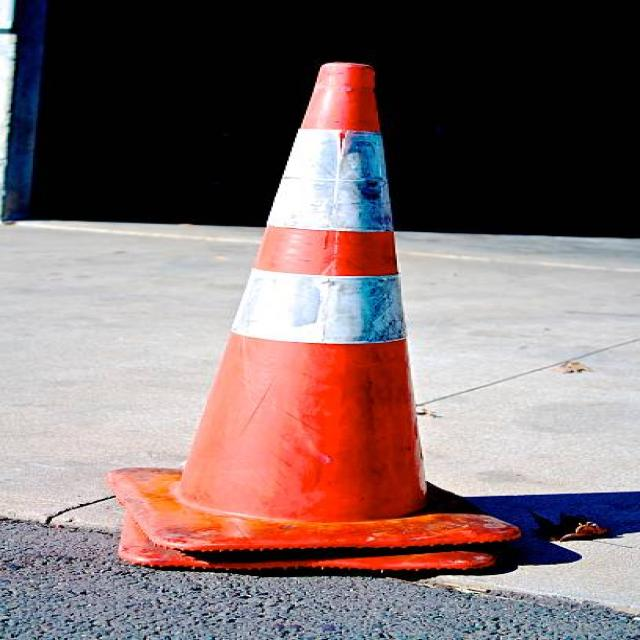Traffic Cone: (66, 19, 538, 601)
